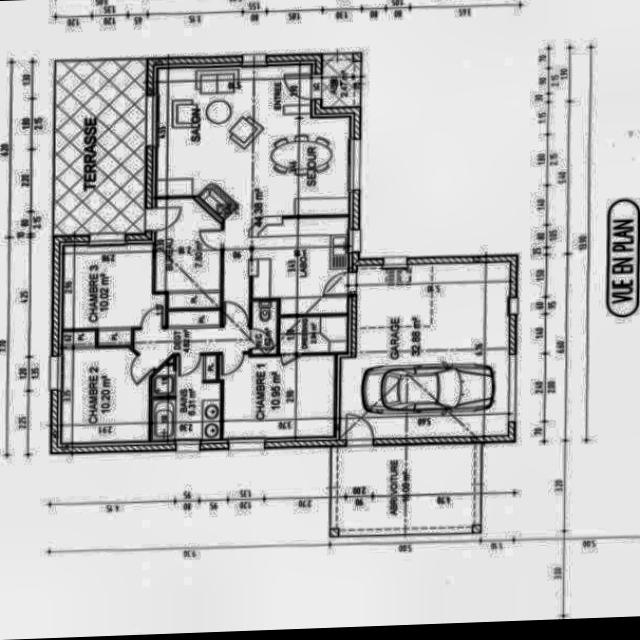room: (157, 64, 349, 326), (340, 258, 511, 441), (54, 57, 147, 236), (329, 443, 483, 535), (251, 215, 350, 314), (219, 354, 334, 438), (62, 346, 155, 443), (62, 242, 166, 328), (155, 197, 221, 308), (152, 355, 220, 439), (134, 326, 250, 368), (279, 315, 347, 353), (322, 53, 361, 107), (252, 300, 277, 353)
